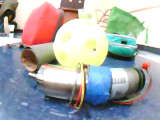Ball: (53, 18, 109, 69)
